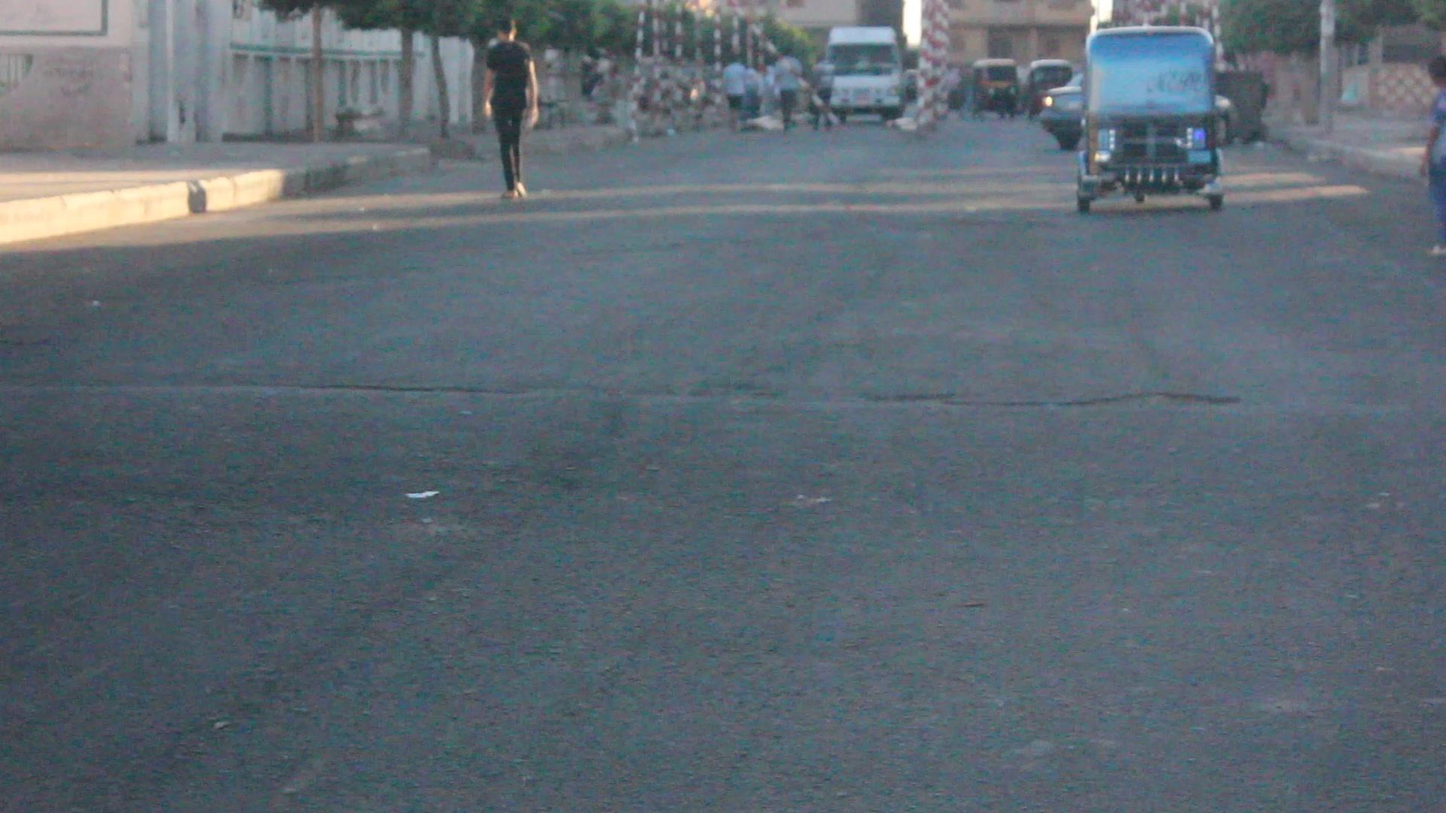Pothole: (494, 370, 1293, 424)
